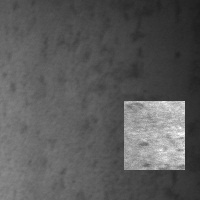pitted_surface: (18, 25, 144, 162)
rolled-in_scale: (124, 101, 185, 170)
